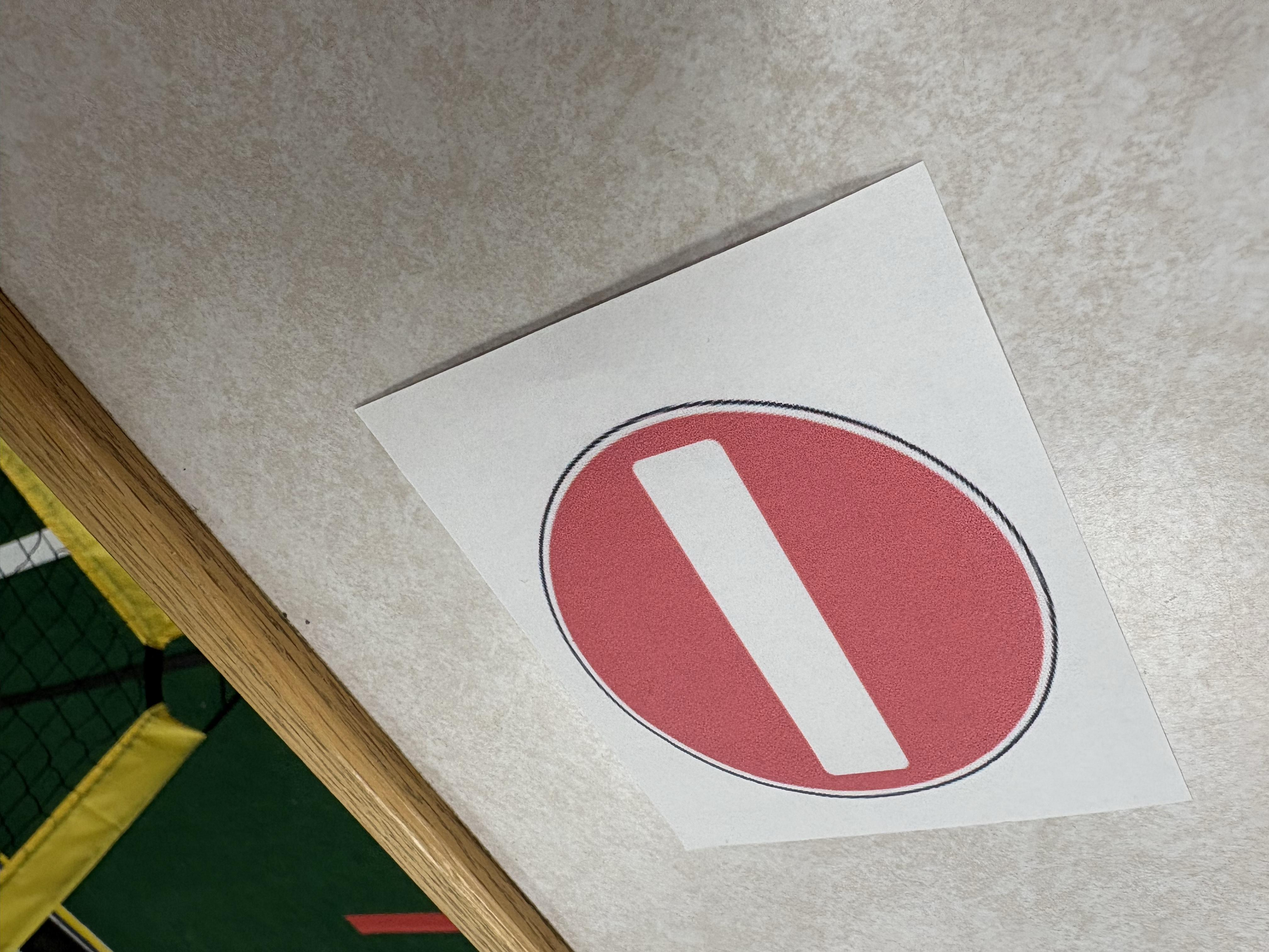No Entry: (358, 164, 1190, 850)
